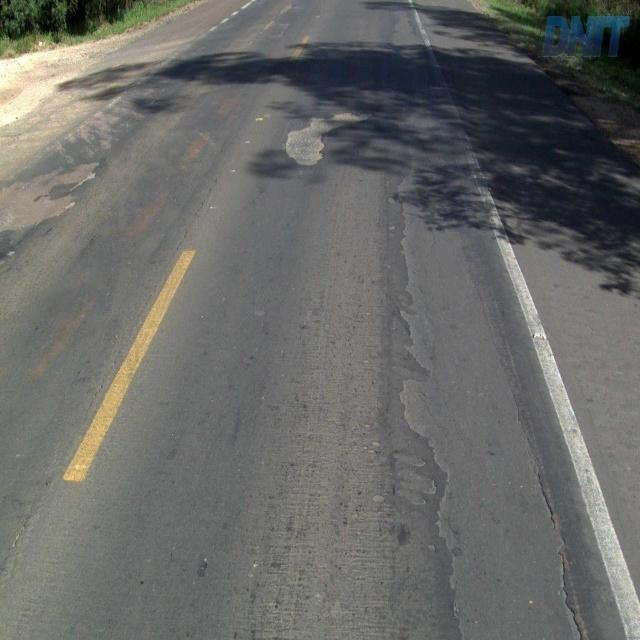pothole: (392, 95, 588, 638), (6, 151, 98, 248), (278, 98, 379, 183)
